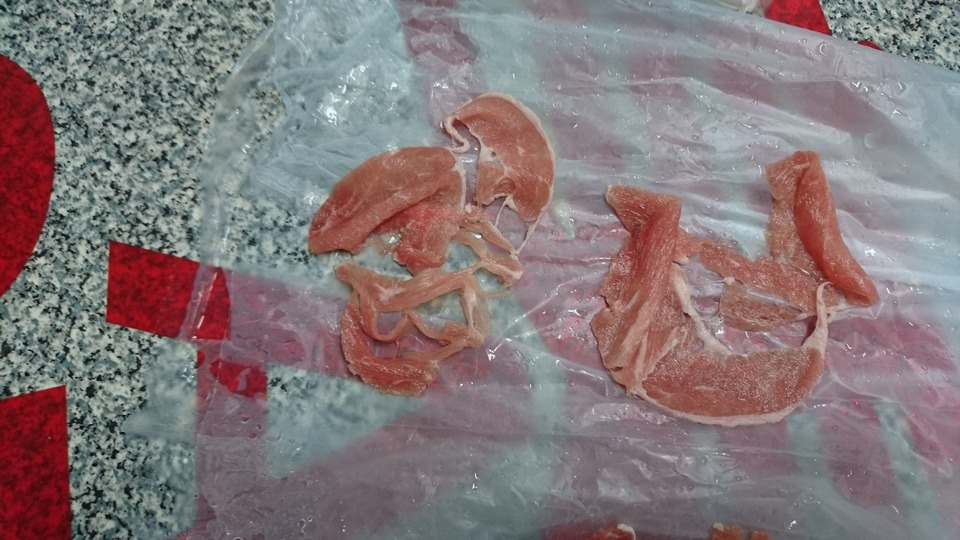restructured meat: (591, 146, 882, 427), (312, 89, 559, 403)
